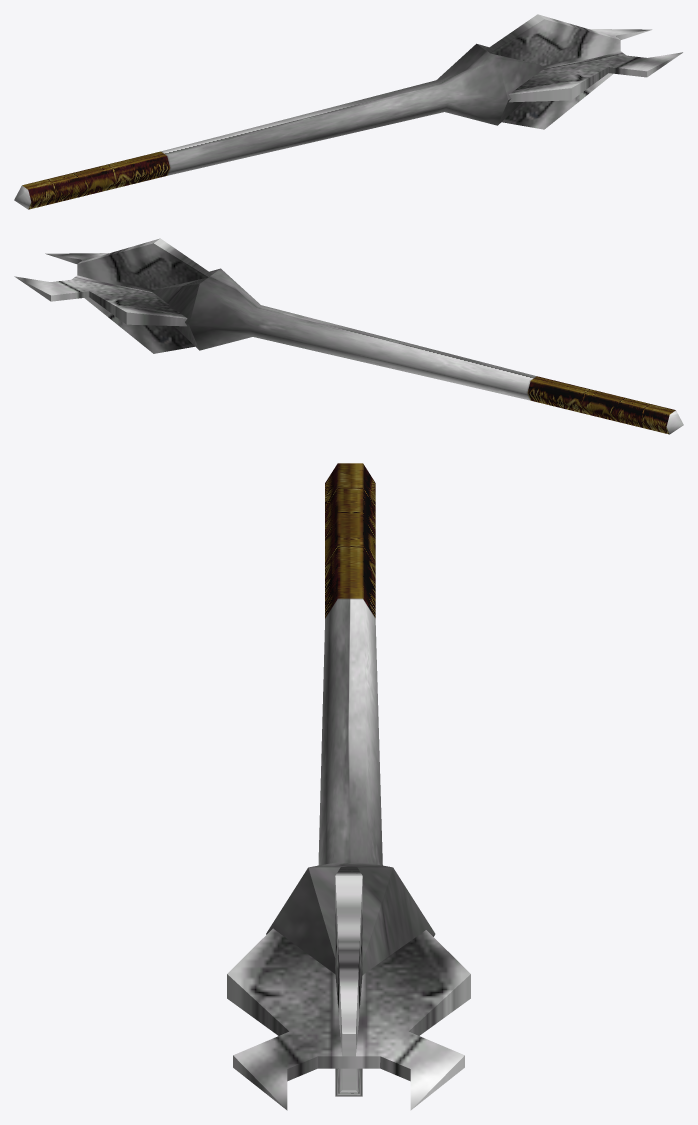
3 views of the same model, one above another, from view 1: azimuth 30°, elevation 25°; view 2: azimuth 150°, elevation 25°; view 3: azimuth 270°, elevation 25° (orthographic). The views are drawn at different scales.
Parts seen in each view (by area): view 1: IT10607_DMSPRITEDEF_node; view 2: IT10607_DMSPRITEDEF_node; view 3: IT10607_DMSPRITEDEF_node.
Boxes of the visible parts, x1=… form: IT10607_DMSPRITEDEF_node: x1=14, y1=14, x2=682, y2=209; IT10607_DMSPRITEDEF_node: x1=14, y1=238, x2=683, y2=434; IT10607_DMSPRITEDEF_node: x1=227, y1=463, x2=470, y2=1110.
Size of the model in its own units: 2.99 by 0.4828 by 0.4829.
3 materials, 3 textured.
